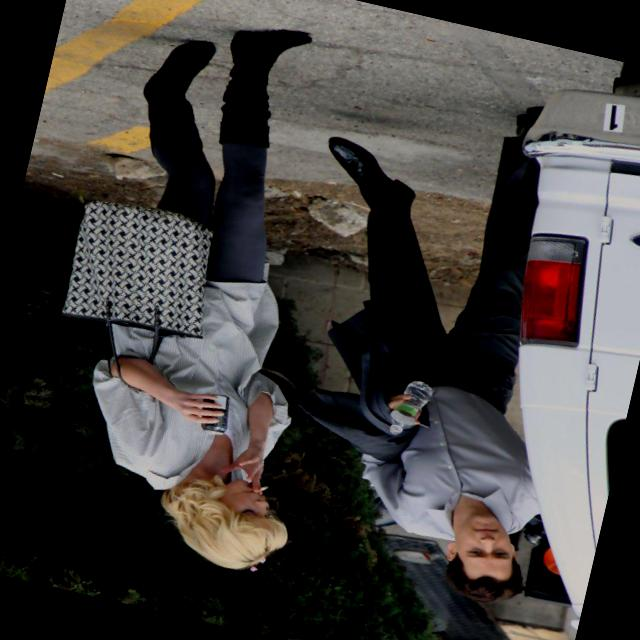smoke: (243, 470, 276, 499)
